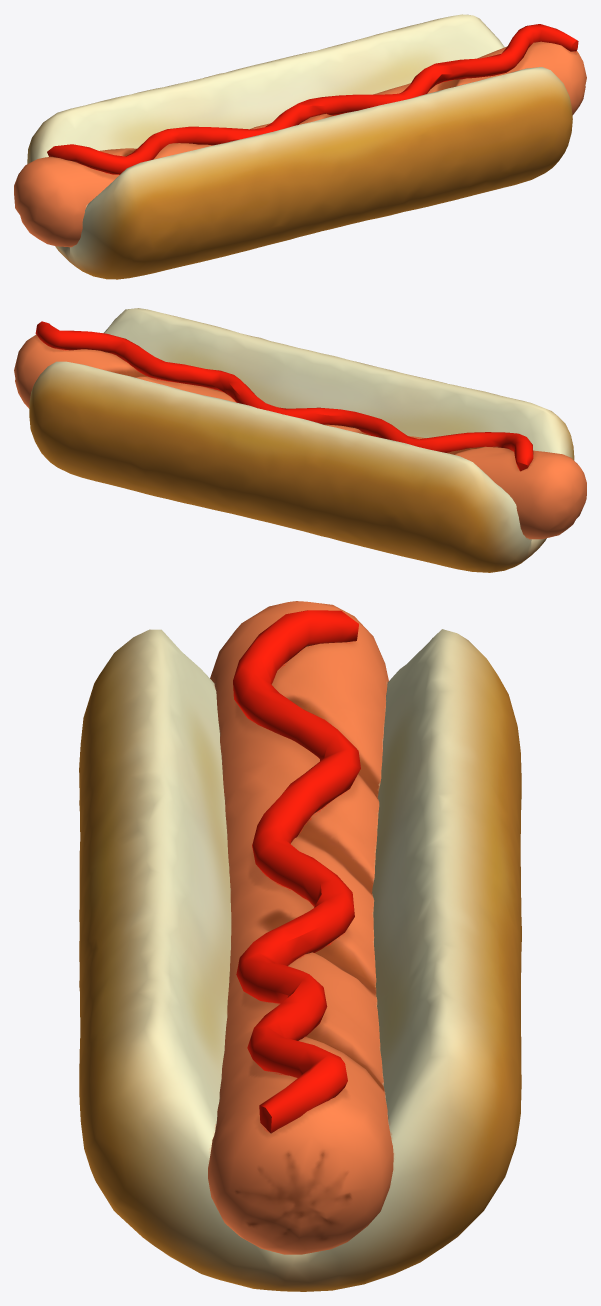
The model's file is hotdog.glb.
The picture shows the model from 3 angles, top to bottom: view 1: azimuth 30°, elevation 25°; view 2: azimuth 150°, elevation 25°; view 3: azimuth 270°, elevation 25°; orthographic projection. The views are drawn at different scales.
Visible parts, largest first — view 1: Object_2; view 2: Object_2; view 3: Object_2.
Part boxes in pixels (x1,y1,x2,y2): Object_2: (14,14,586,279); Object_2: (14,308,586,572); Object_2: (79,601,521,1291).
Size of the model in its own units: 2.26 by 0.5143 by 0.7764.
1 material, 1 textured.
